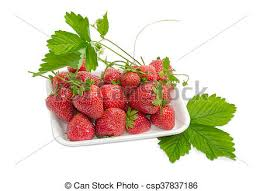Fresa: (69, 80, 107, 121), (127, 79, 164, 116), (64, 108, 99, 144), (45, 85, 78, 123), (95, 106, 128, 139), (123, 106, 155, 137), (149, 101, 180, 133), (119, 67, 141, 98)
